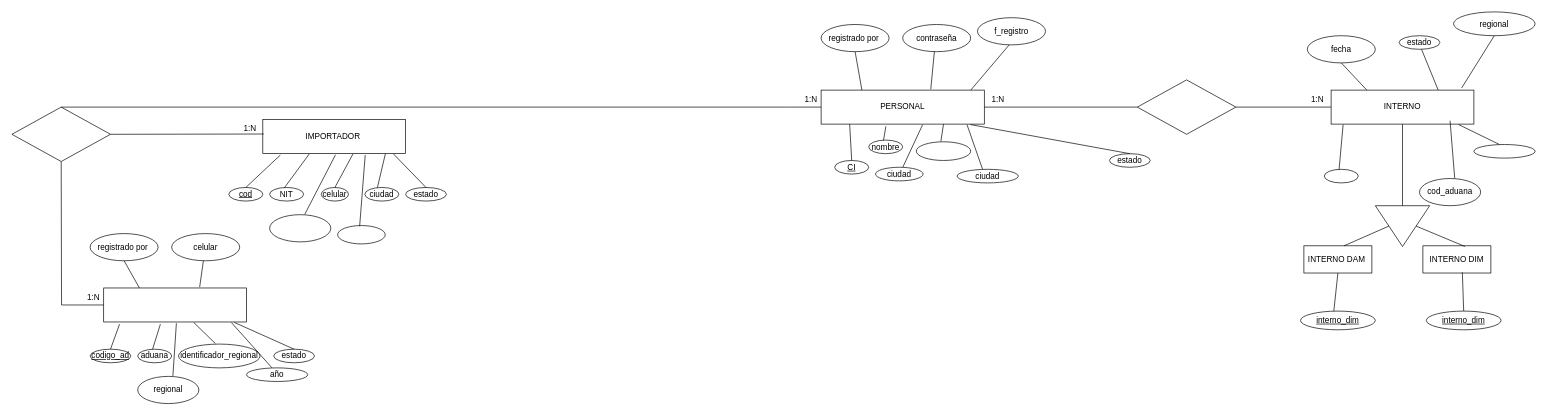
This 1547x415 diagram has some shape labels left out. The box of each missing label's shape, as (x1, y1, x2, y2) in pixels:
empresa: (269, 214, 331, 242)
fecha_reg: (337, 225, 385, 244)
gestion: (1324, 169, 1358, 183)
mes: (1473, 144, 1535, 158)
nickname: (916, 141, 971, 160)
RECINTO: (103, 287, 247, 322)
registra: (11, 106, 111, 162)
SOLICITA: (1137, 79, 1236, 134)
